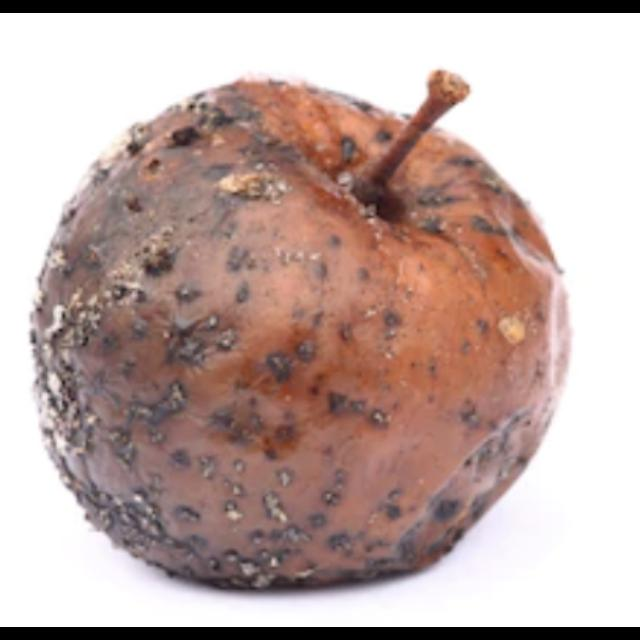Apel Tidak Segar: (24, 63, 580, 602)
